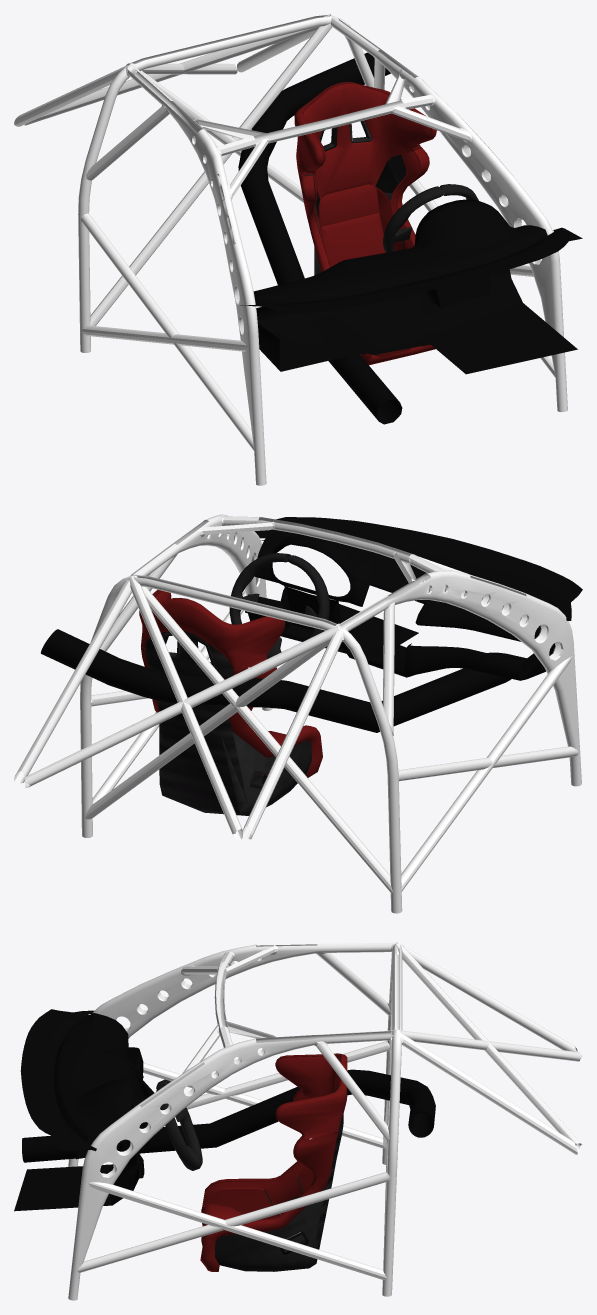
The model's file is bmw_saloon.fbx.
3 views of the same model, one above another, from view 1: azimuth 30°, elevation 25°; view 2: azimuth 150°, elevation 25°; view 3: azimuth 270°, elevation 25° (orthographic). The views are drawn at different scales.
Visible parts, largest first — view 1: ROLLCAGE_int_chrome_0; view 2: ROLLCAGE_int_chrome_0; view 3: ROLLCAGE_int_chrome_0.
Part boxes in pixels (left/top/right/bottom): ROLLCAGE_int_chrome_0: left=14, top=14, right=582, bottom=485; ROLLCAGE_int_chrome_0: left=14, top=514, right=582, bottom=913; ROLLCAGE_int_chrome_0: left=14, top=942, right=582, bottom=1300.
Bounding box in the file's own units: 141 × 112 × 234.
